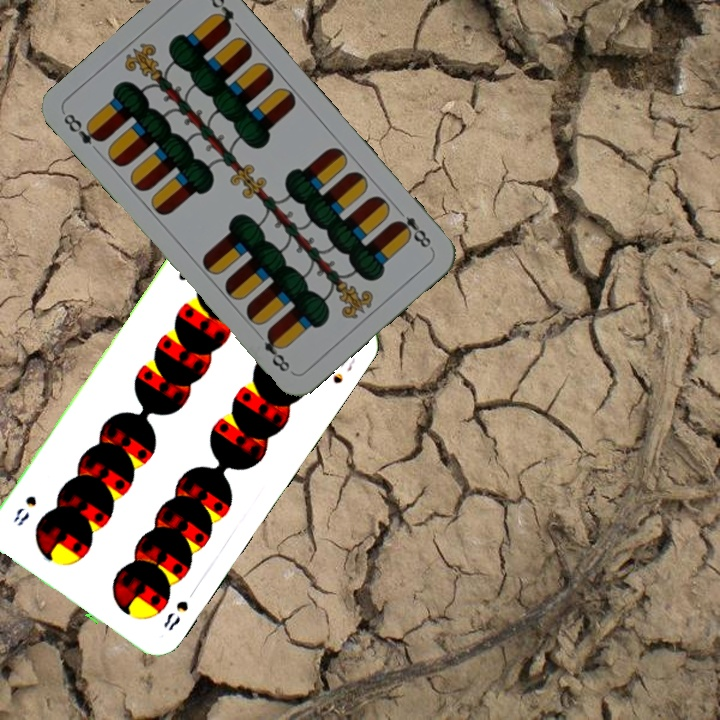E8: (390, 203, 435, 252), (59, 109, 106, 148)
S8: (159, 596, 191, 633)
